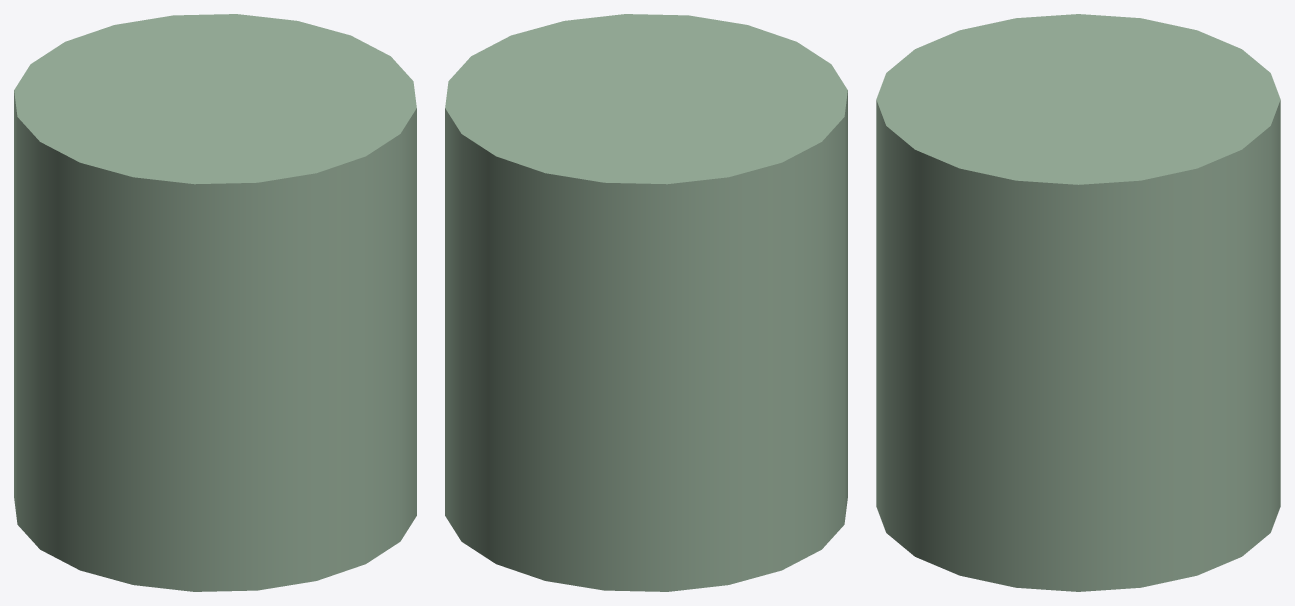
Rendered from CylinderObj.fbx.
The picture shows the model from 3 angles, left to right: view 1: azimuth 30°, elevation 25°; view 2: azimuth 150°, elevation 25°; view 3: azimuth 270°, elevation 25°; orthographic projection.
Visible parts, largest first — view 1: pCylinder1; view 2: pCylinder1; view 3: pCylinder1.
Boxes of the visible parts, x1,y1,x2,y2 form: pCylinder1: (14,14,416,591); pCylinder1: (445,14,847,591); pCylinder1: (876,14,1280,591).
Bounding box in the file's own units: 1.8 × 2 × 1.8.
